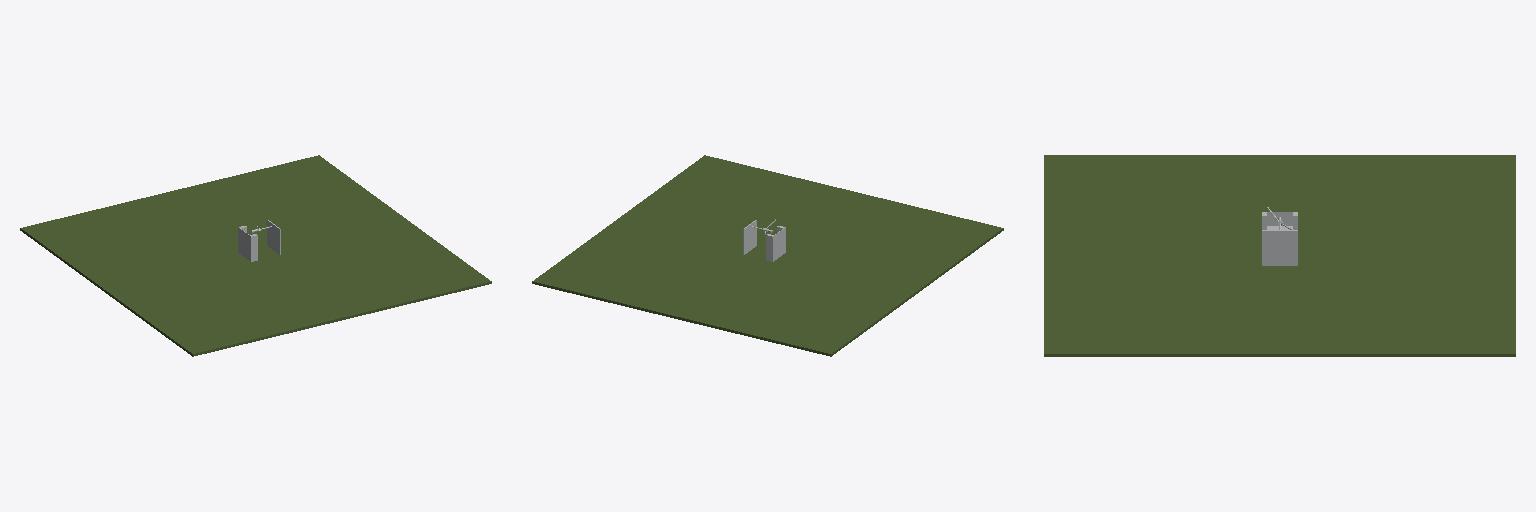
URDF robot description (db0272_turnstile_tripod_minimal):
<?xml version="1.0" ?>
<robot xmlns:doorbench="https://github.com/adamraudonis/DoorBench/schema/urdf-ext" name="db0272_turnstile_tripod_minimal">
  <link name="world_env">
    <visual name="floor_vis">
      <origin xyz="0 0 -0.05" rpy="0 0 0"/>
      <geometry>
        <box size="12 12 0.1"/>
      </geometry>
      <material name="mat_floor"/>
    </visual>
    <collision name="floor_col">
      <origin xyz="0 0 -0.05" rpy="0 0 0"/>
      <geometry>
        <box size="12 12 0.1"/>
      </geometry>
    </collision>
    <visual name="cabinet_vis">
      <origin xyz="-0.315 0 0.3" rpy="0 0 0"/>
      <geometry>
        <box size="0.28 0.9 0.6"/>
      </geometry>
      <material name="mat_frame"/>
    </visual>
    <collision name="cabinet_col">
      <origin xyz="-0.315 0 0.3" rpy="0 0 0"/>
      <geometry>
        <box size="0.28 0.9 0.6"/>
      </geometry>
    </collision>
    <visual name="cabinet_end_n_vis">
      <origin xyz="-0.315 -0.39 0.79" rpy="0 0 0"/>
      <geometry>
        <box size="0.28 0.12 0.38"/>
      </geometry>
      <material name="mat_frame"/>
    </visual>
    <collision name="cabinet_end_n_col">
      <origin xyz="-0.315 -0.39 0.79" rpy="0 0 0"/>
      <geometry>
        <box size="0.28 0.12 0.38"/>
      </geometry>
    </collision>
    <visual name="cabinet_end_p_vis">
      <origin xyz="-0.315 0.39 0.79" rpy="0 0 0"/>
      <geometry>
        <box size="0.28 0.12 0.38"/>
      </geometry>
      <material name="mat_frame"/>
    </visual>
    <collision name="cabinet_end_p_col">
      <origin xyz="-0.315 0.39 0.79" rpy="0 0 0"/>
      <geometry>
        <box size="0.28 0.12 0.38"/>
      </geometry>
    </collision>
    <visual name="cabinet_back_vis">
      <origin xyz="-0.445 0 0.79" rpy="0 0 0"/>
      <geometry>
        <box size="0.02 0.9 0.38"/>
      </geometry>
      <material name="mat_frame"/>
    </visual>
    <collision name="cabinet_back_col">
      <origin xyz="-0.445 0 0.79" rpy="0 0 0"/>
      <geometry>
        <box size="0.02 0.9 0.38"/>
      </geometry>
    </collision>
    <visual name="guide_rail_post_vis">
      <origin xyz="0.715 0 0.5" rpy="0 0 0"/>
      <geometry>
        <box size="0.04 0.9 1"/>
      </geometry>
      <material name="mat_frame"/>
    </visual>
    <collision name="guide_rail_post_col">
      <origin xyz="0.715 0 0.5" rpy="0 0 0"/>
      <geometry>
        <box size="0.04 0.9 1"/>
      </geometry>
    </collision>
  </link>
  <link name="rotor">
    <inertial>
      <origin xyz="-0.005663 0 0" rpy="0 0 0"/>
      <mass value="10.738226"/>
      <inertia ixx="0.693715098" ixy="0" ixz="0" iyy="0.906355734" iyz="0.336704321" izz="0.906355734"/>
    </inertial>
    <visual name="hub_boss_vis">
      <origin xyz="-0.145 0 0" rpy="0 1.570796 0"/>
      <geometry>
        <cylinder radius="0.04" length="0.29"/>
      </geometry>
      <material name="mat_frame"/>
    </visual>
    <visual name="tripod_mesh_vis">
      <origin xyz="0 0 0" rpy="-0.785398 0 0"/>
      <geometry>
        <mesh filename="../../hardware/tripod_ae832648e5.obj"/>
      </geometry>
      <material name="mat_op_stainless"/>
    </visual>
    <collision name="arm_0_col_col">
      <origin xyz="0.3 0 0" rpy="0 1.570796 0"/>
      <geometry>
        <cylinder radius="0.019" length="0.4"/>
      </geometry>
    </collision>
    <collision name="arm_1_col_col">
      <origin xyz="-0.15 0.183712 -0.183712" rpy="-2.356194 -0.523599 1.148367"/>
      <geometry>
        <cylinder radius="0.019" length="0.4"/>
      </geometry>
    </collision>
    <collision name="arm_2_col_col">
      <origin xyz="-0.15 -0.183712 0.183712" rpy="0.785398 -0.523599 -0.221072"/>
      <geometry>
        <cylinder radius="0.019" length="0.4"/>
      </geometry>
    </collision>
  </link>
  <joint name="rotor_hinge" type="continuous">
    <origin xyz="0.115 0 0.93" rpy="0 0 0"/>
    <parent link="world_env"/>
    <child link="rotor"/>
    <axis xyz="0 0.707107 0.707107"/>
    <dynamics damping="2" friction="3.109518"/>
    <doorbench:ratchet one_way="true"/>
    <doorbench:note text="locked until a credential is presented: held by the rotor_solenoid_hold constraint, not by the joint range"/>
  </joint>
  <material name="mat_floor">
    <color rgba="0.35 0.42 0.25 1"/>
  </material>
  <material name="mat_frame">
    <color rgba="0.75 0.76 0.77 1"/>
  </material>
  <material name="mat_op_stainless">
    <color rgba="0.75 0.76 0.77 1"/>
  </material>
  <doorbench:weld body1="rotor" body2="world" label="Turnstile solenoid lock (released on a valid credential)" active="true"/>
</robot>

--- Facts derived from the render (not from the file) ---
Views: 3 orthographic renders of the robot side by side, from view 1: azimuth 30°, elevation 25°; view 2: azimuth 150°, elevation 25°; view 3: azimuth 270°, elevation 25°.
Robot: db0272_turnstile_tripod_minimal — 2 links, 1 joints (1 continuous); root link world_env; default pose: every joint at zero.
Links seen in each view (by area): view 1: world_env; view 2: world_env; view 3: world_env.
Boxes of the visible links, box(x1,y1,x2,y2) form: world_env: box(20, 155, 491, 356); world_env: box(532, 155, 1003, 356); world_env: box(1044, 155, 1515, 356).
Bounding box of the posed robot: 12 × 12 × 1.36 m (x, y, z).
Meshes: 1 distinct files referenced, 1 mesh visuals loaded (1 OBJ).
